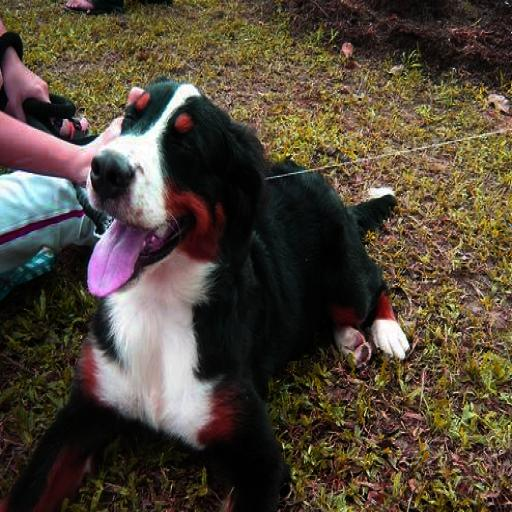dog_face: (91, 75, 272, 288)
